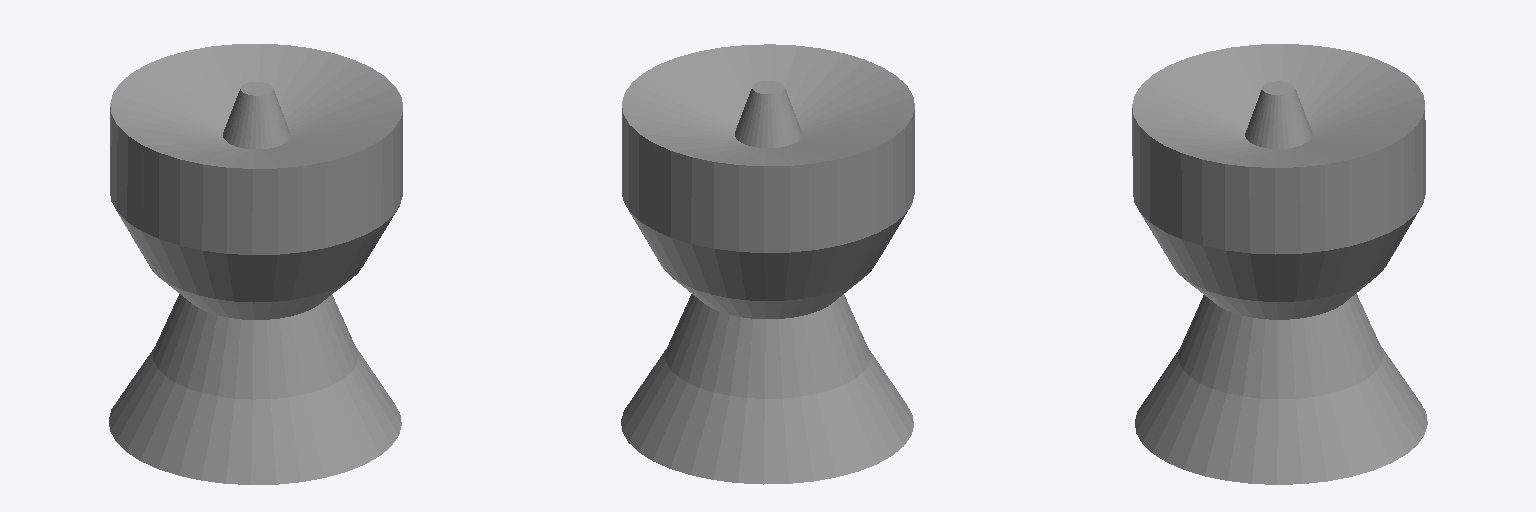
The model's file is whiteking.obj.
The picture shows the model from 3 angles: view 1: azimuth 30°, elevation 25°; view 2: azimuth 150°, elevation 25°; view 3: azimuth 270°, elevation 25°; orthographic projection.
Visible parts, largest first — view 1: Cube; view 2: Cube; view 3: Cube.
Part boxes in pixels (x1,y1,x2,y2): Cube: (109, 44, 402, 484); Cube: (621, 44, 914, 484); Cube: (1132, 44, 1427, 484).
Size of the model in its own units: 3.99 by 5.04 by 4.02.